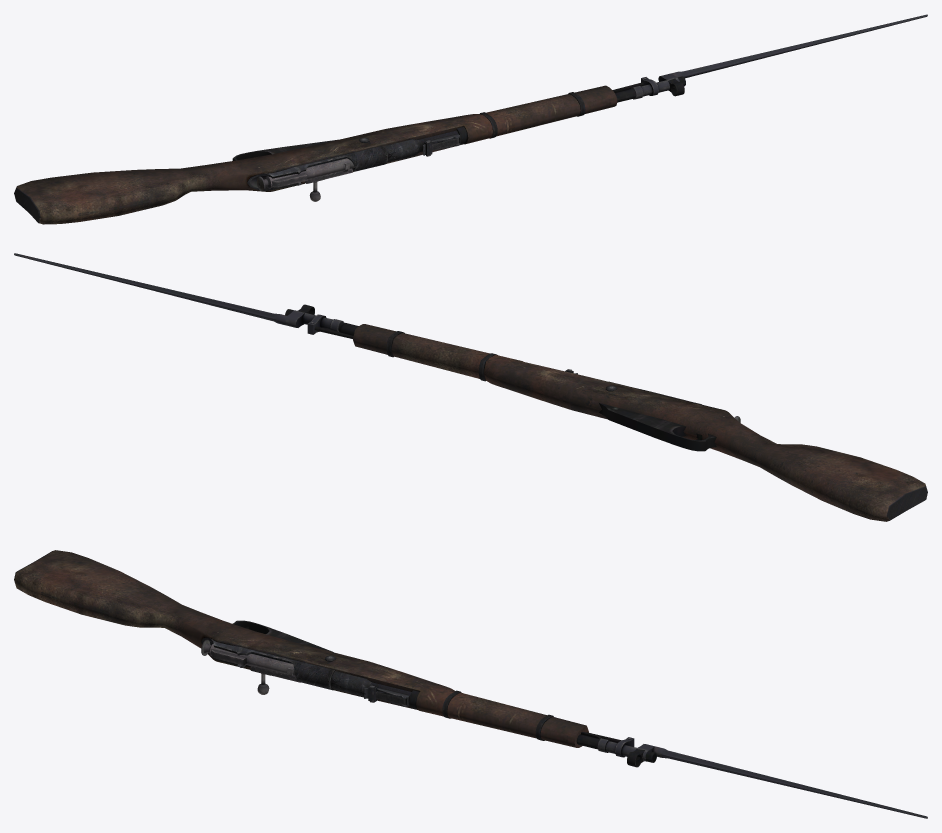
File: weapon_rus_mosin_rifle_bayonet_LOD01.obj
The picture shows the model from 3 angles, top to bottom: view 1: azimuth 30°, elevation 25°; view 2: azimuth 150°, elevation 25°; view 3: azimuth 330°, elevation 25°; orthographic projection. The views are drawn at different scales.
Visible parts, largest first — view 1: TomGroup_2, TomGroup_0, TomGroup_1; view 2: TomGroup_2, TomGroup_0, TomGroup_1; view 3: TomGroup_2, TomGroup_0, TomGroup_1.
Part boxes in pixels (x1,y1,x2,y2): TomGroup_2: (16,85,617,224); TomGroup_0: (14,76,685,223); TomGroup_1: (631,14,927,99); TomGroup_2: (353,324,925,521); TomGroup_0: (285,304,927,520); TomGroup_1: (14,253,343,334); TomGroup_2: (14,550,588,747); TomGroup_0: (14,551,656,767); TomGroup_1: (597,737,927,818).
Size of the model in its own units: 179 by 8.51 by 22.78.
Materials: 2 (2 with a texture image).
